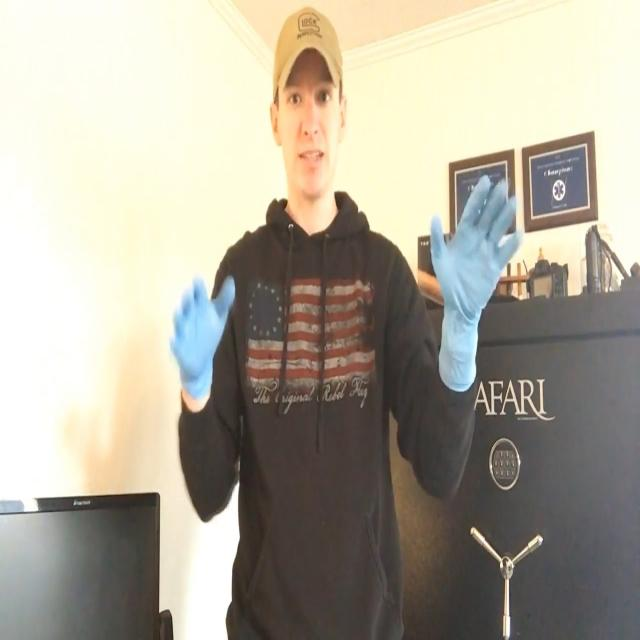Gloves: (431, 171, 522, 413), (157, 274, 245, 411)
